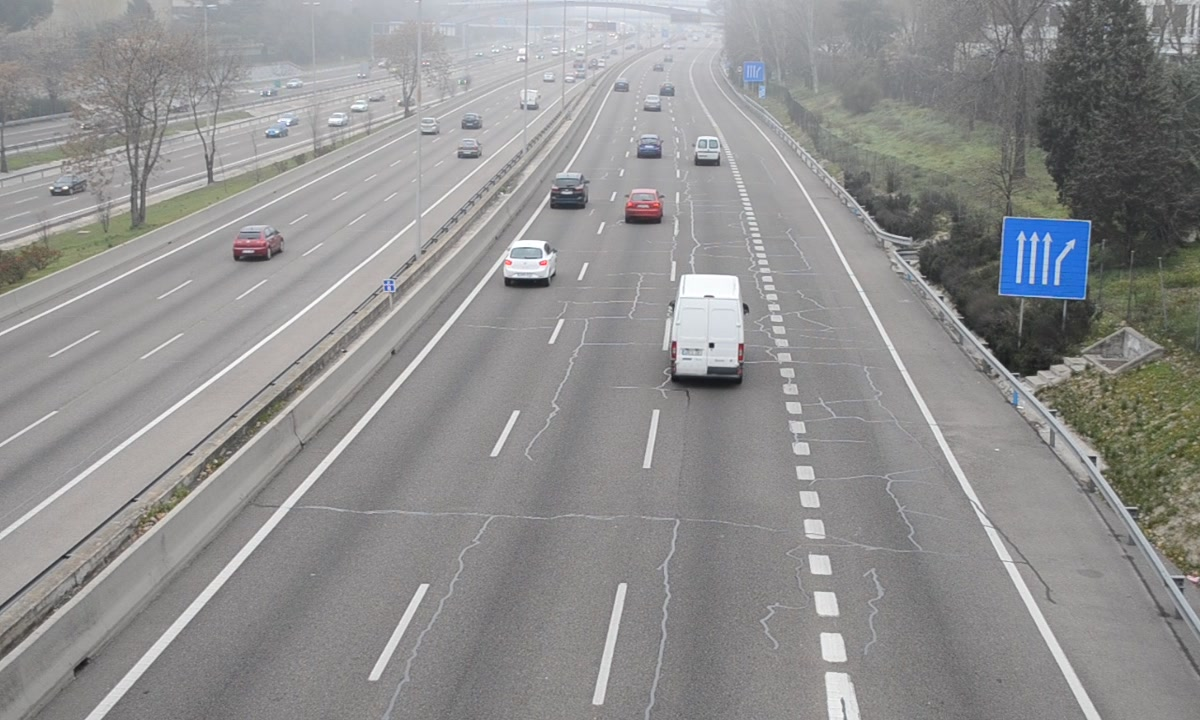car: (501, 242, 554, 283), (549, 172, 589, 211), (625, 188, 664, 226), (636, 133, 663, 160)
van: (670, 275, 747, 384), (693, 135, 723, 168)
